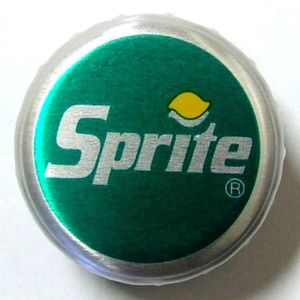sprite: (41, 104, 253, 184), (43, 104, 253, 184), (41, 104, 253, 179)
